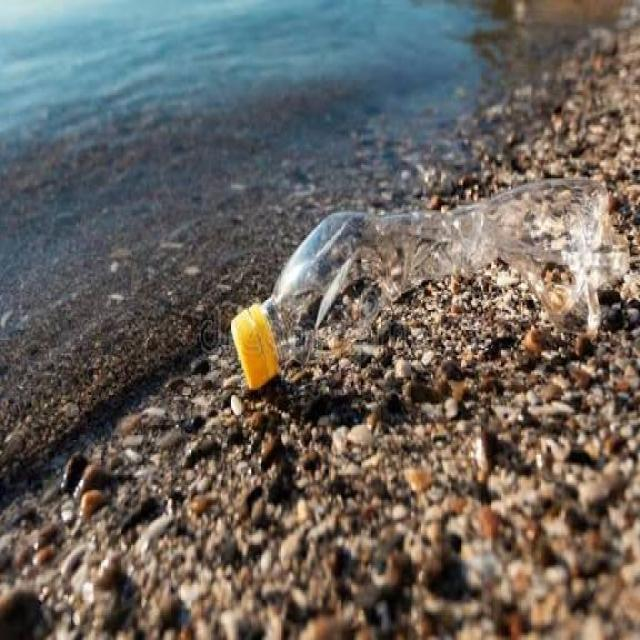plastic: (206, 133, 624, 369)
